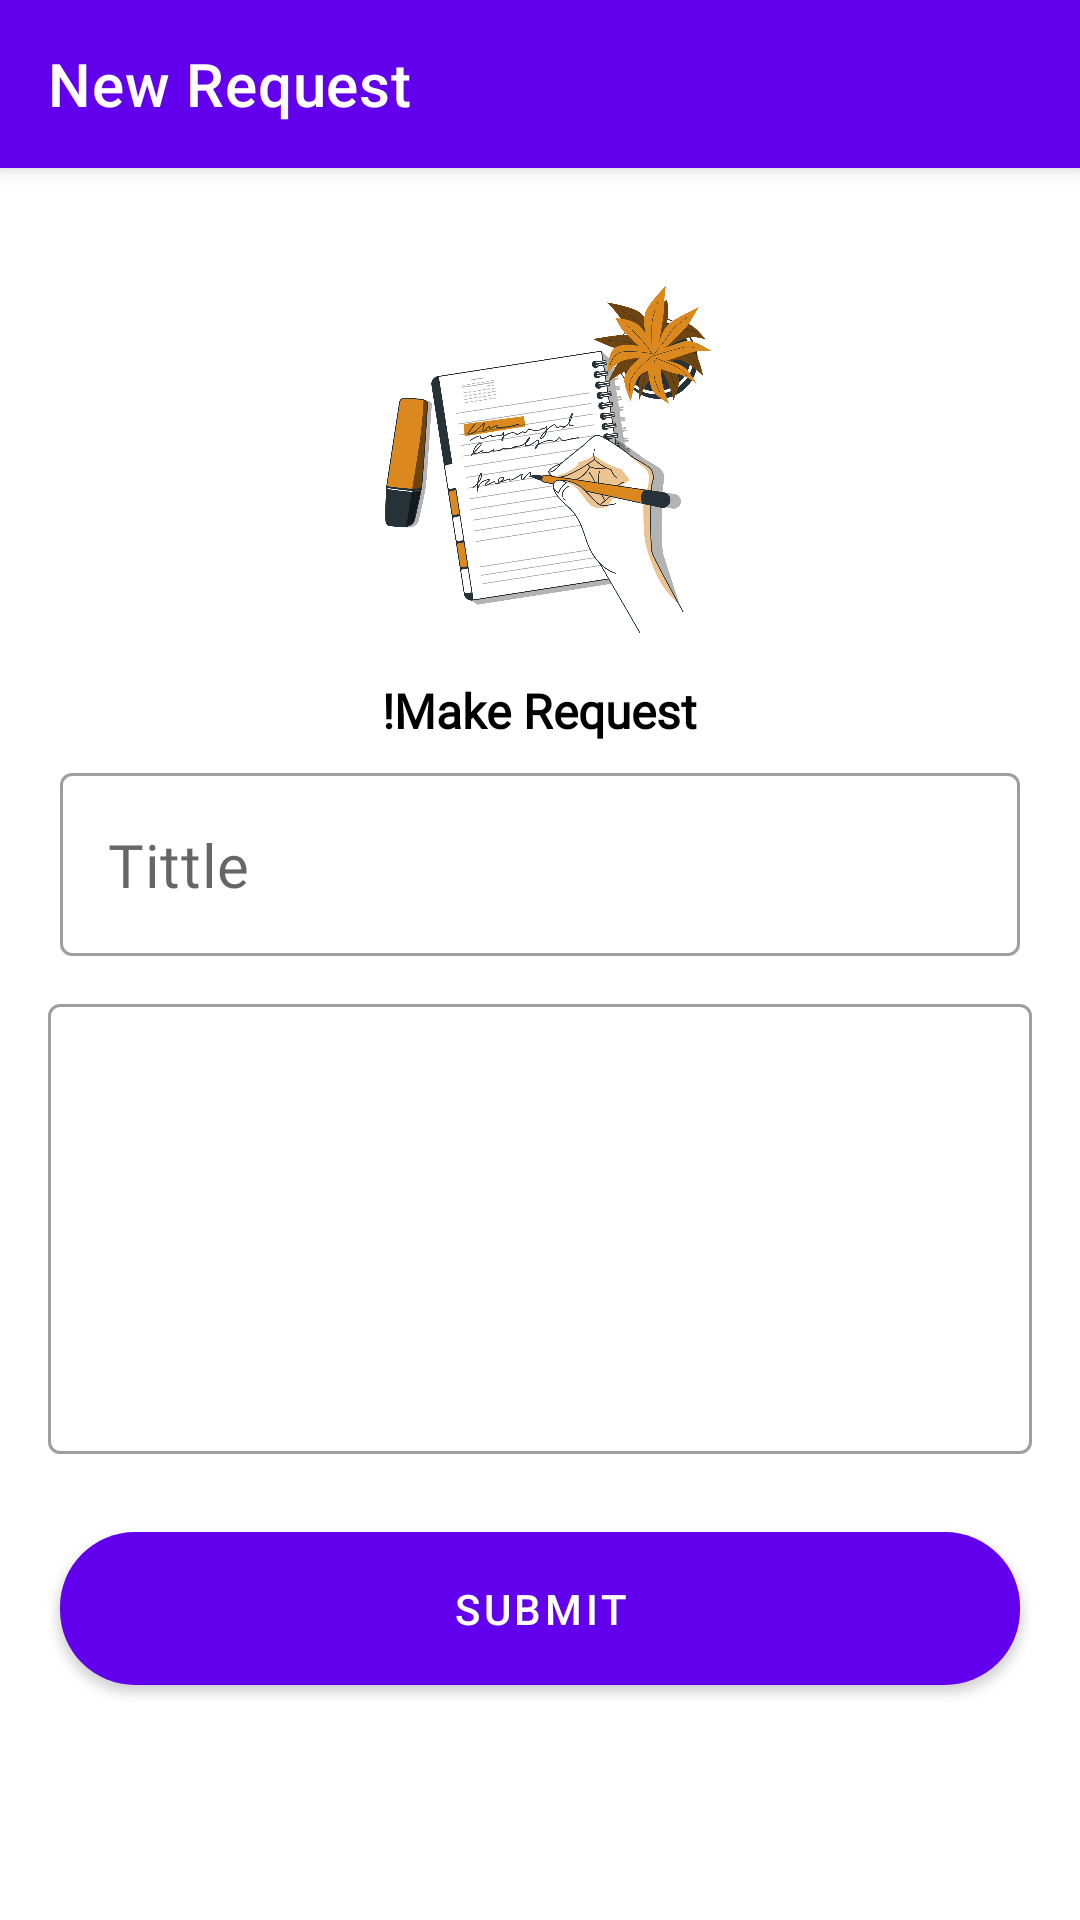

Icon click points for this 1080px×1920px phone screenshot, format (x,y):
note: (548,459)
